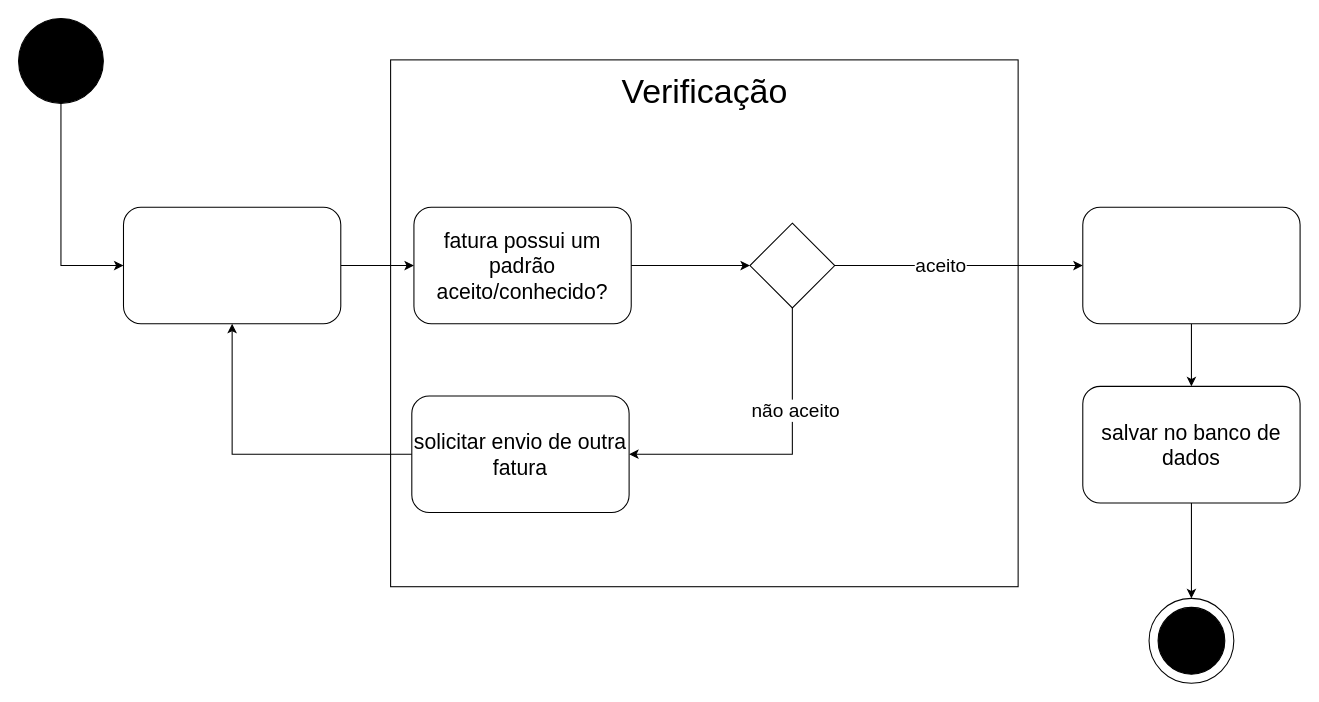
This 1319x702 diagram has some shape labels left out. Each missing label, with the centre of its shape:
extrair informações: pixel 1191 265
fazer upload de fatura: pixel 231 265
